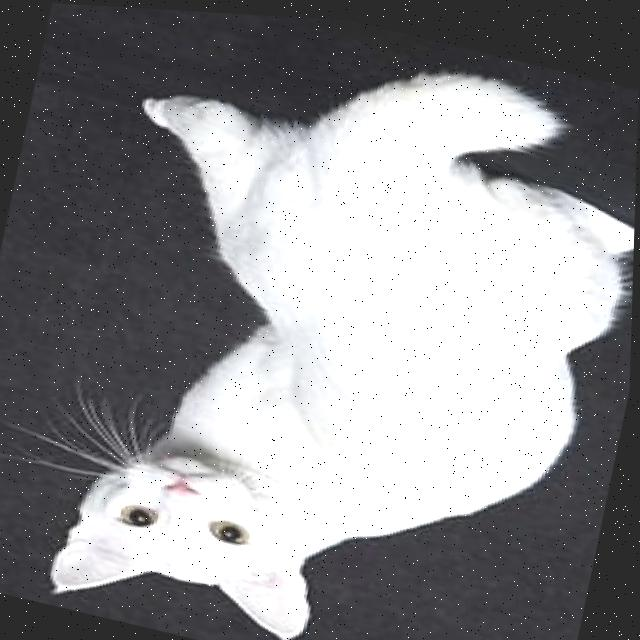American Bobtail: (33, 2, 640, 640)
